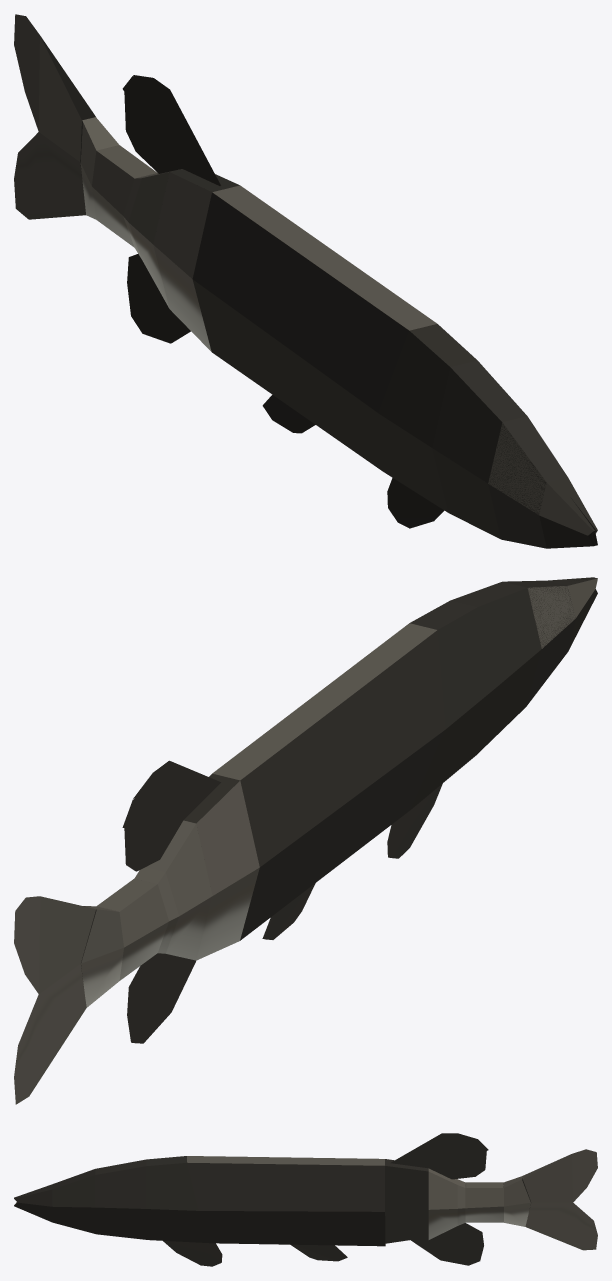
The model's file is gadda.fbx.
3 views of the same model, one above another, from view 1: azimuth 30°, elevation 25°; view 2: azimuth 150°, elevation 25°; view 3: azimuth 270°, elevation 25° (orthographic). The views are drawn at different scales.
Parts seen in each view (by area): view 1: Cube.005; view 2: Cube.005; view 3: Cube.005.
Boxes of the visible parts, x1,y1,x2,y2 form: Cube.005: (14, 14, 597, 548); Cube.005: (14, 577, 597, 1104); Cube.005: (14, 1133, 597, 1266).
Size of the model in its own units: 10.09 by 38 by 151.
1 material, 1 textured.
